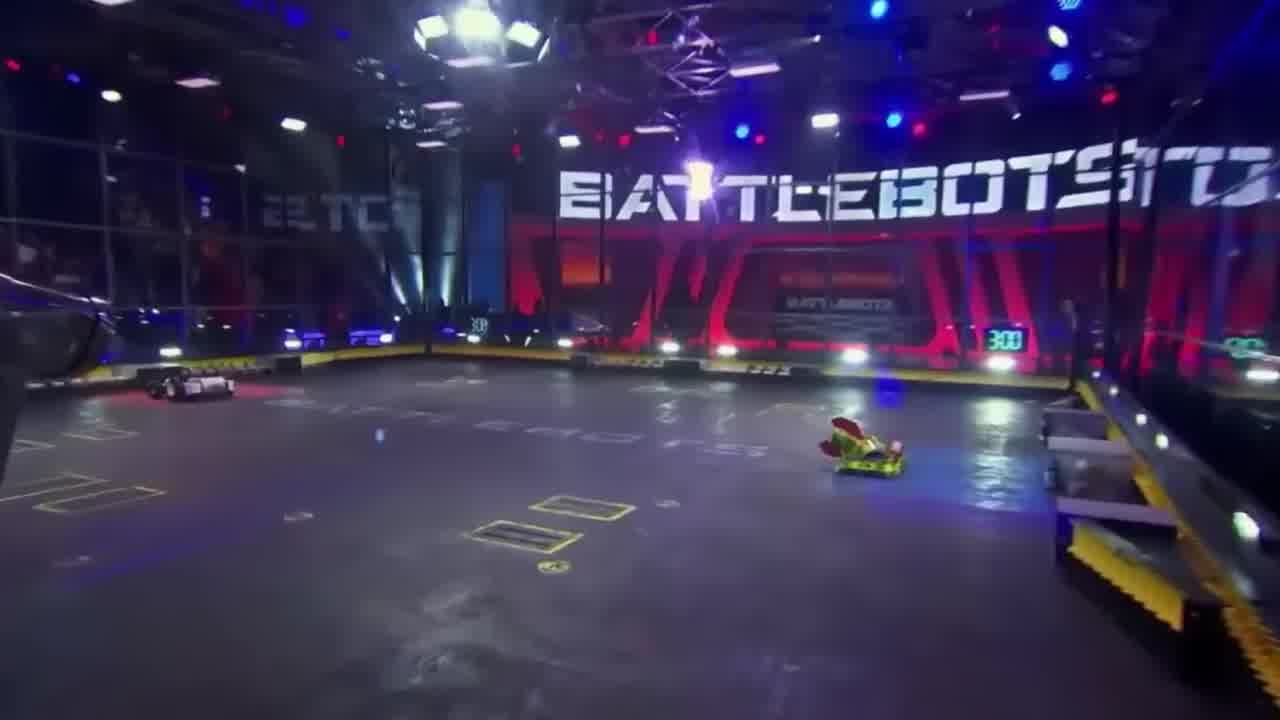combatbot: (816, 415, 908, 479), (160, 369, 237, 403)
